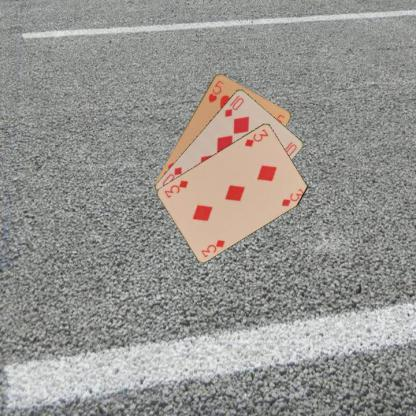10d: (222, 92, 245, 118)
3d: (242, 126, 269, 148), (199, 237, 226, 258)
5h: (206, 77, 224, 104)
